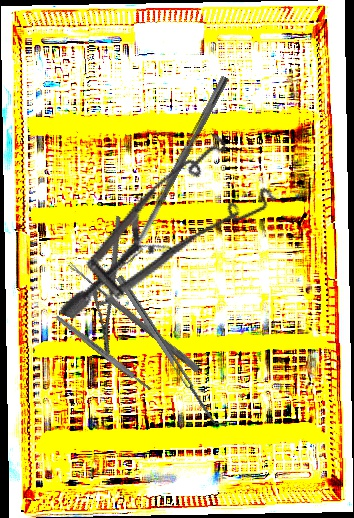Needle Holder: (62, 215, 164, 355)
Scalpel Handle: (54, 313, 153, 393)
Spatula Surgical: (116, 271, 228, 433)
Speculum: (58, 105, 290, 374)
Surgical Spoon: (123, 75, 230, 262), (66, 261, 201, 373)
